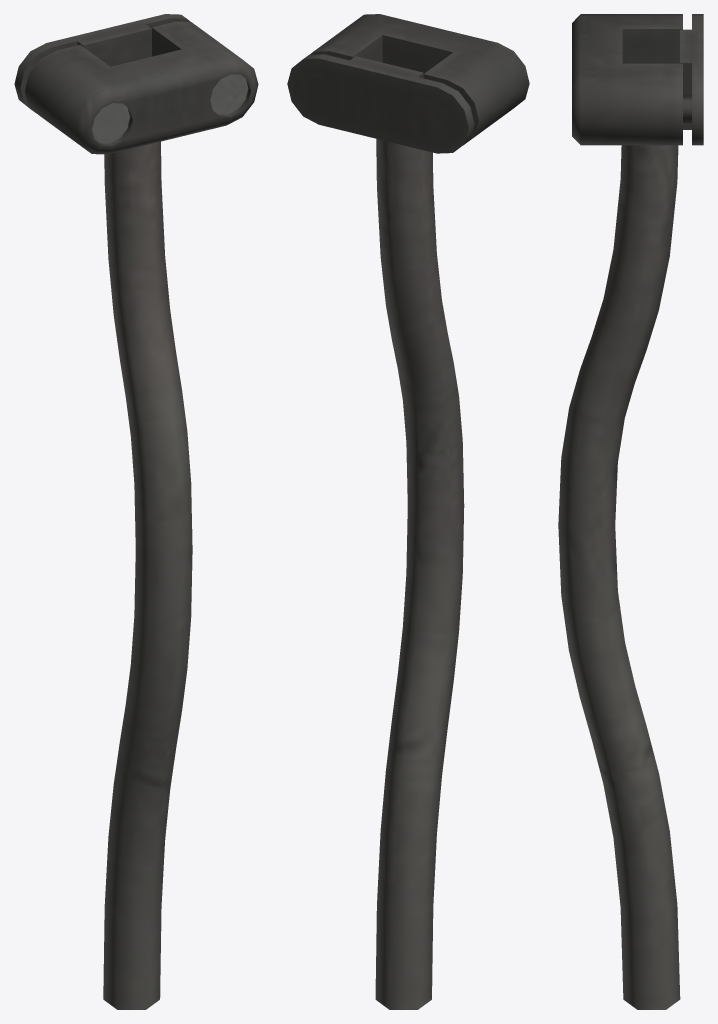
The model's file is cable_bridge_2.gltf.
3 renders of one model, left to right at view 1: azimuth 30°, elevation 25°; view 2: azimuth 150°, elevation 25°; view 3: azimuth 270°, elevation 25°, orthographic.
Parts seen in each view (by area): view 1: cable_bridge_2; view 2: cable_bridge_2; view 3: cable_bridge_2.
Boxes of the visible parts, bbox=[...] form: cable_bridge_2: bbox=[14, 14, 258, 1009]; cable_bridge_2: bbox=[287, 14, 529, 1009]; cable_bridge_2: bbox=[558, 14, 703, 1009].
Size of the model in its own units: 0.0416 by 0.2073 by 0.0286.
1 material, 1 textured.
